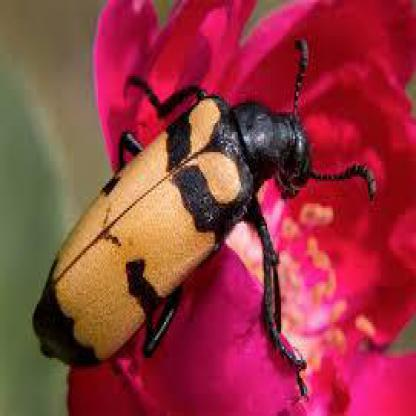blister beetle: (32, 36, 375, 374)
